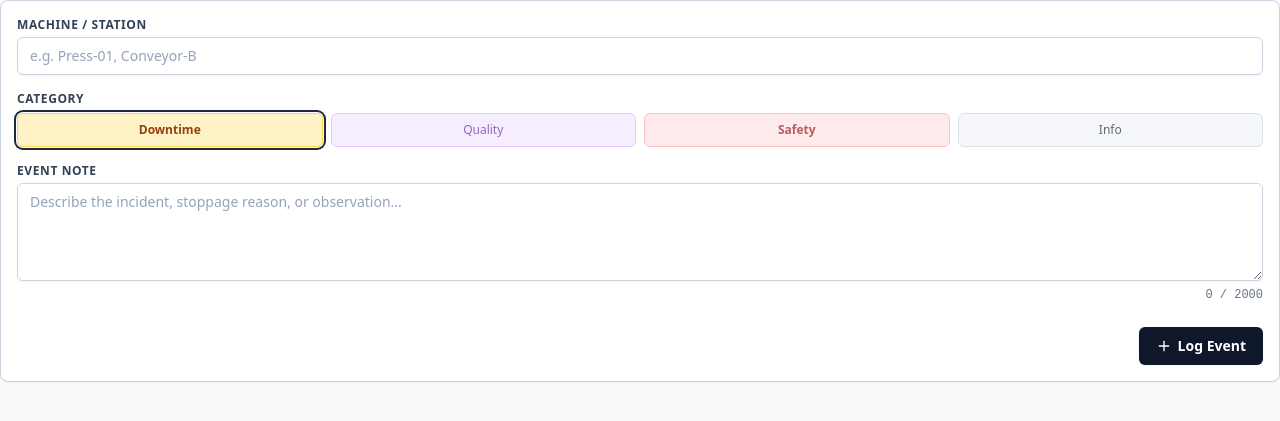
it: EventForm Component › Client-Side Form Validation › blocks submission and shows inline error when machine name is empty
Type "Valid note description" into the text box labelled "Event Note". click: (640, 232)
box: [17, 183, 1263, 281]
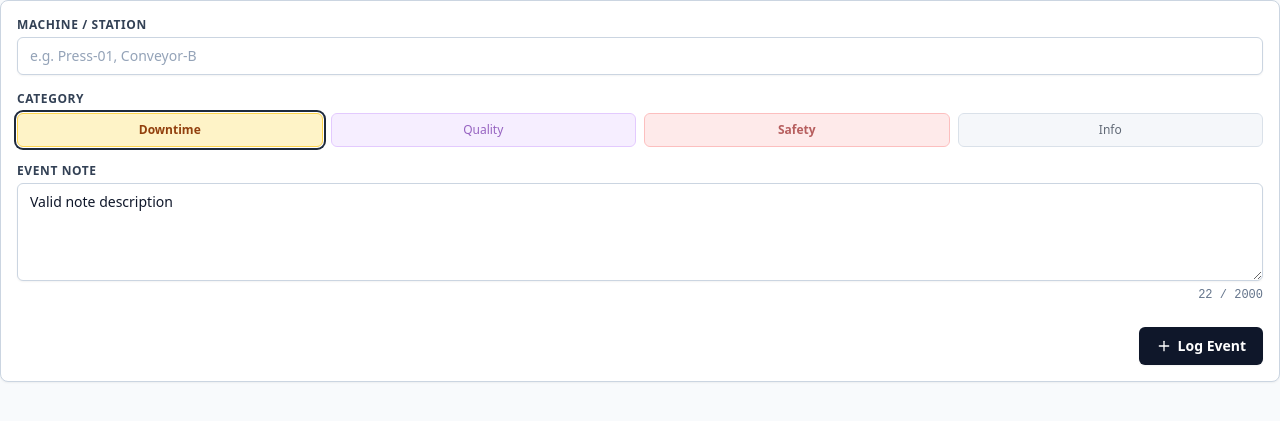
Click the button "Log Event". click: (1201, 346)
box: [1139, 327, 1263, 365]
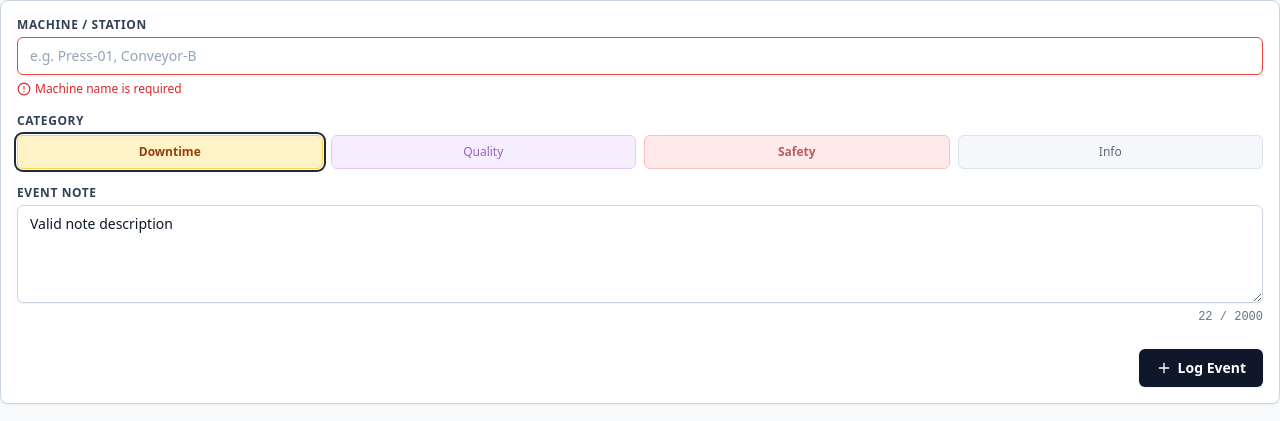
Now the text "Machine name is required" is shown, box [17, 80, 182, 97]
